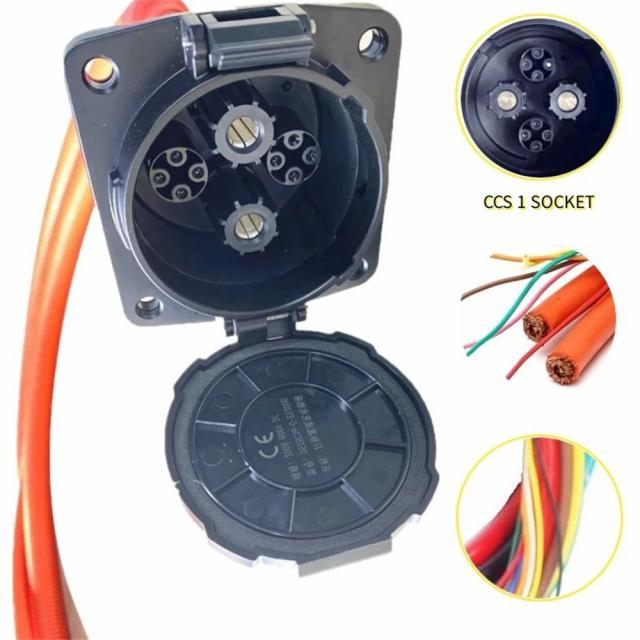CHAdeMO: (74, 60, 395, 324)
